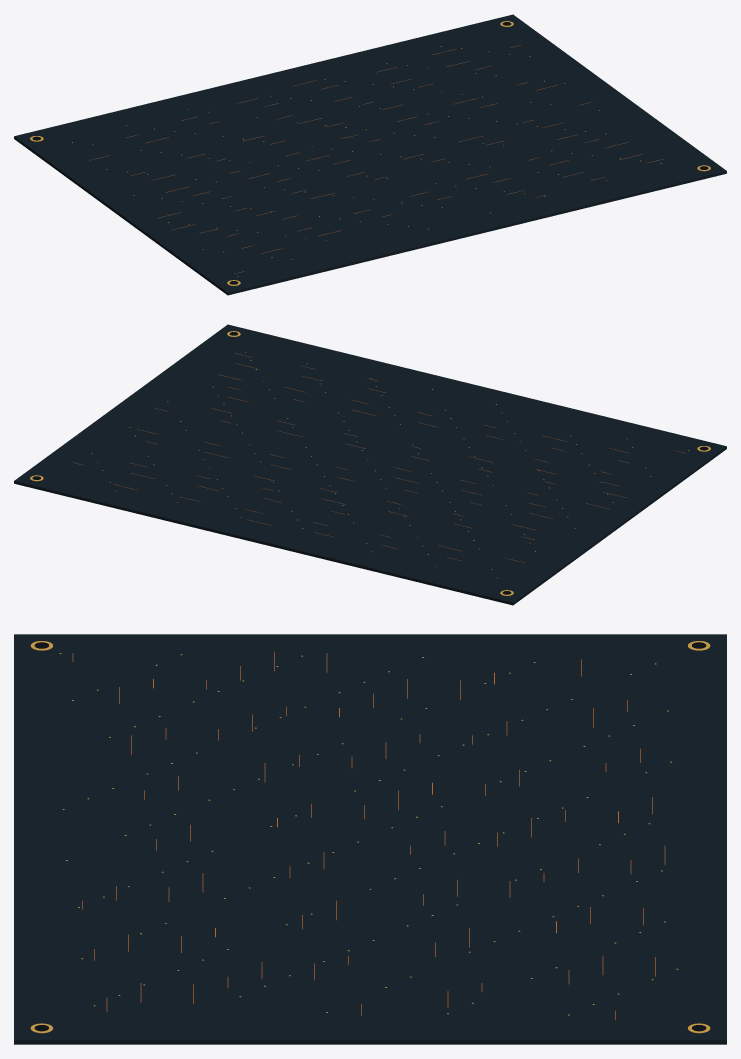
Rendered from 131_L110_PWR18_EmptyPCB.fbx.
3 views of the same model, one above another, from view 1: azimuth 30°, elevation 25°; view 2: azimuth 150°, elevation 25°; view 3: azimuth 270°, elevation 25° (orthographic). The views are drawn at different scales.
Parts seen in each view (by area): view 1: L110_PWR18_EmptyPCB_PCB, L110_PWR18_EmptyPCB_COPPER; view 2: L110_PWR18_EmptyPCB_PCB, L110_PWR18_EmptyPCB_COPPER; view 3: L110_PWR18_EmptyPCB_PCB, L110_PWR18_EmptyPCB_COPPER, L110_PWR18_EmptyPCB_GOLD.
Boxes of the visible parts, x1,y1,x2,y2 form: L110_PWR18_EmptyPCB_PCB: (14, 14, 726, 295); L110_PWR18_EmptyPCB_COPPER: (89, 45, 663, 273); L110_PWR18_EmptyPCB_PCB: (14, 324, 726, 605); L110_PWR18_EmptyPCB_COPPER: (72, 353, 685, 562); L110_PWR18_EmptyPCB_PCB: (14, 634, 726, 1044); L110_PWR18_EmptyPCB_COPPER: (72, 651, 665, 1019); L110_PWR18_EmptyPCB_GOLD: (30, 641, 710, 1033).
Size of the model in its own units: 310 by 230 by 1.81.
